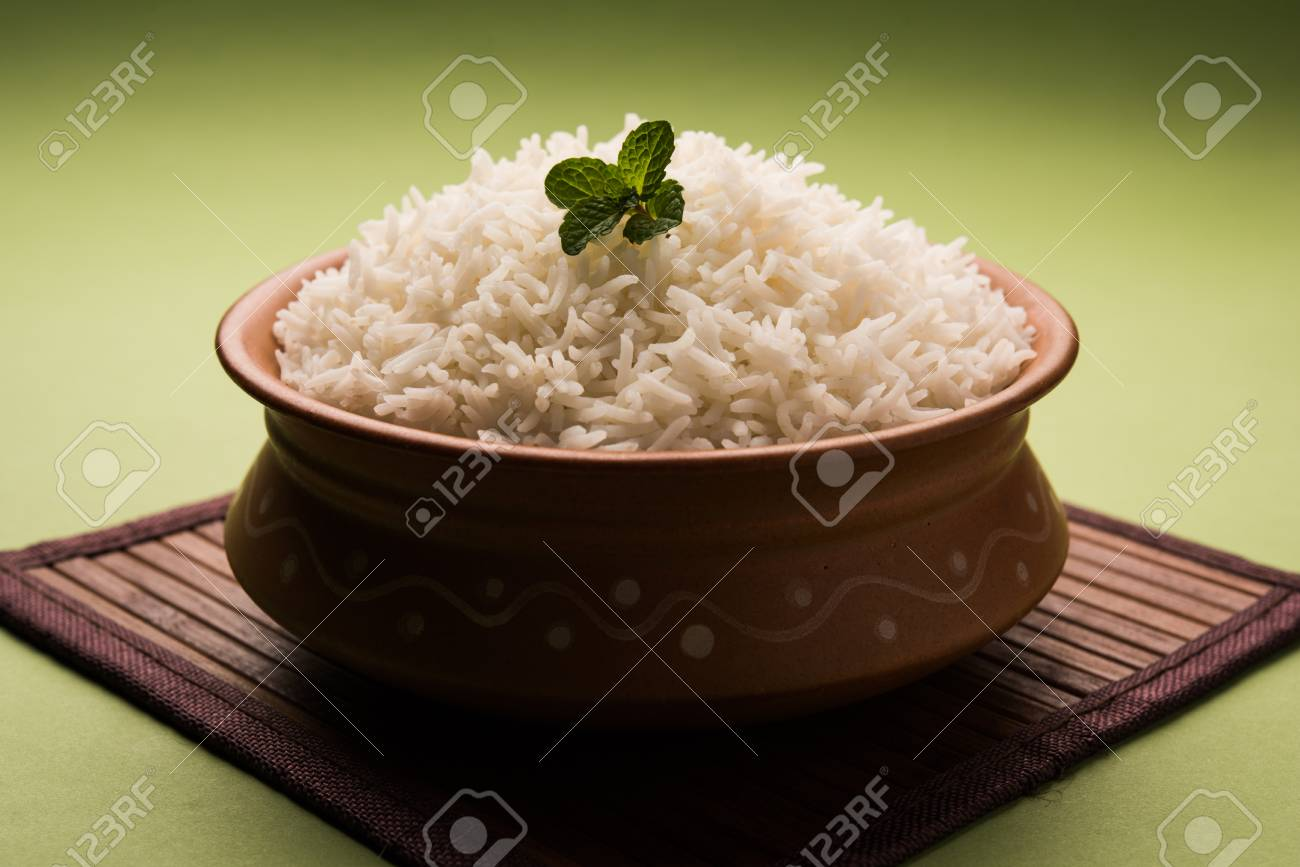plain rice: (282, 129, 1024, 447)
